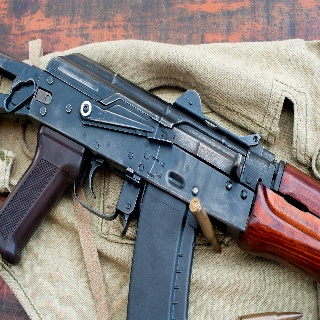rifle: (1, 37, 320, 320)
